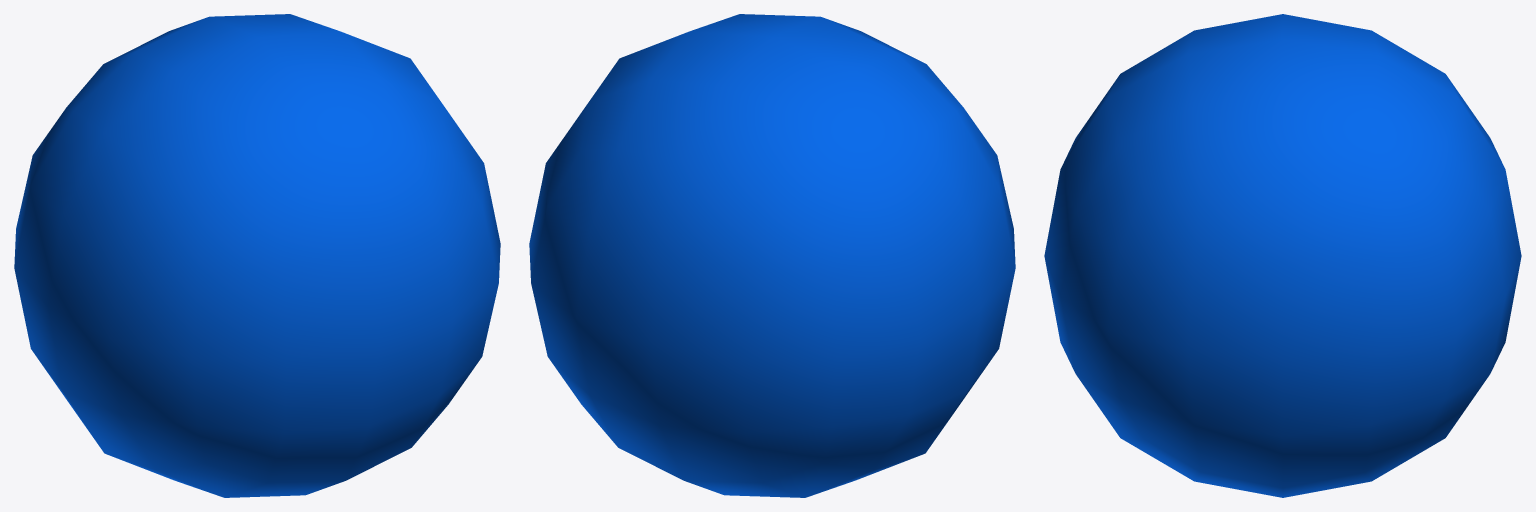
The model's file is HeroBaseModel.fbx.
The picture shows the model from 3 angles, left to right: view 1: azimuth 30°, elevation 25°; view 2: azimuth 150°, elevation 25°; view 3: azimuth 270°, elevation 25°; orthographic projection.
Visible parts, largest first — view 1: Hero; view 2: Hero; view 3: Hero.
Part boxes in pixels (x1,y1,x2,y2): Hero: [14, 14, 500, 497]; Hero: [529, 14, 1015, 497]; Hero: [1044, 14, 1521, 497].
Bounding box in the file's own units: 2.6 × 2.6 × 2.6.
